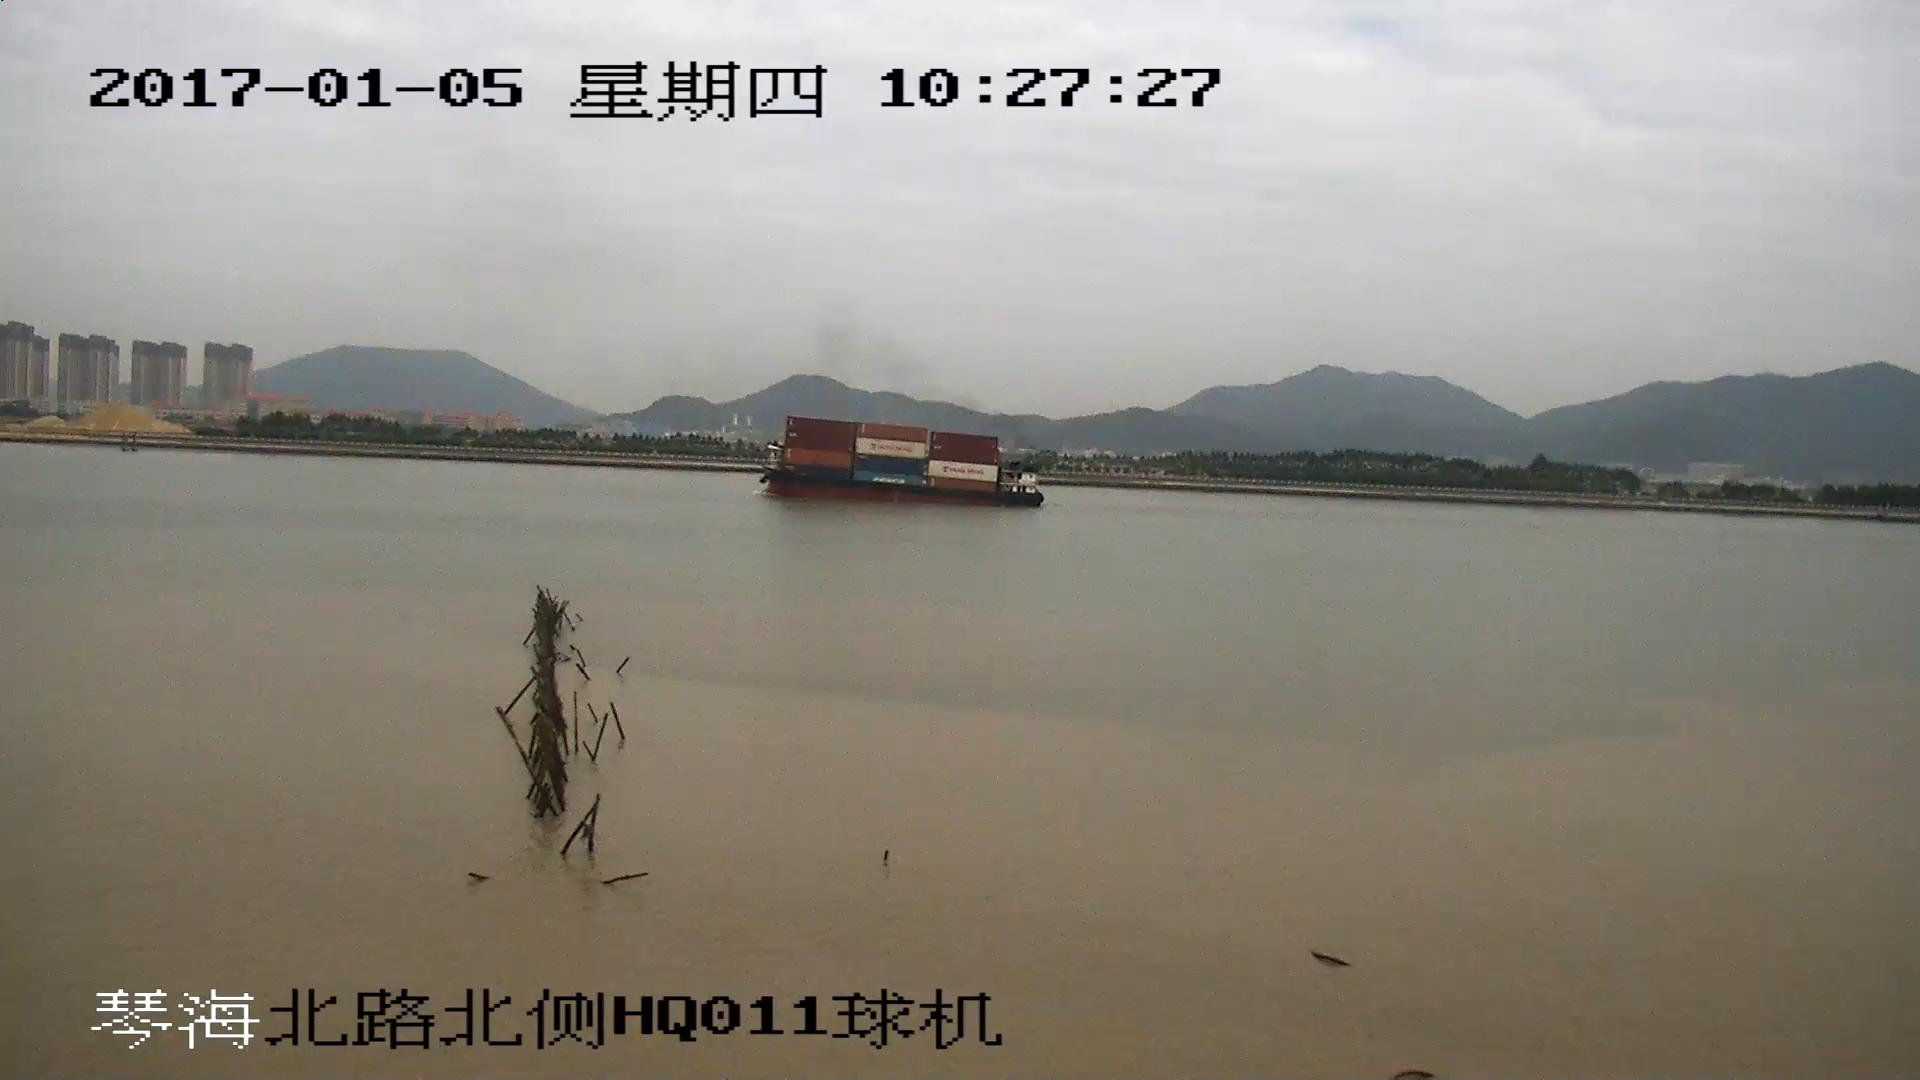container ship: (756, 418, 1040, 508)
